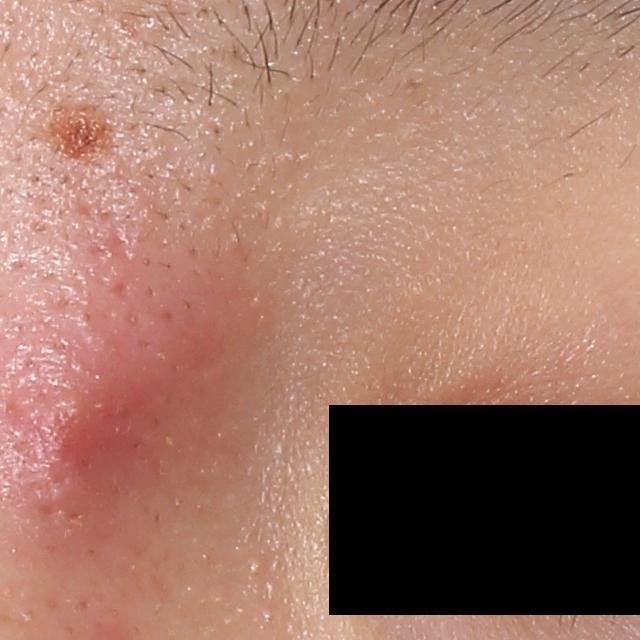nevus: (54, 104, 116, 166)
